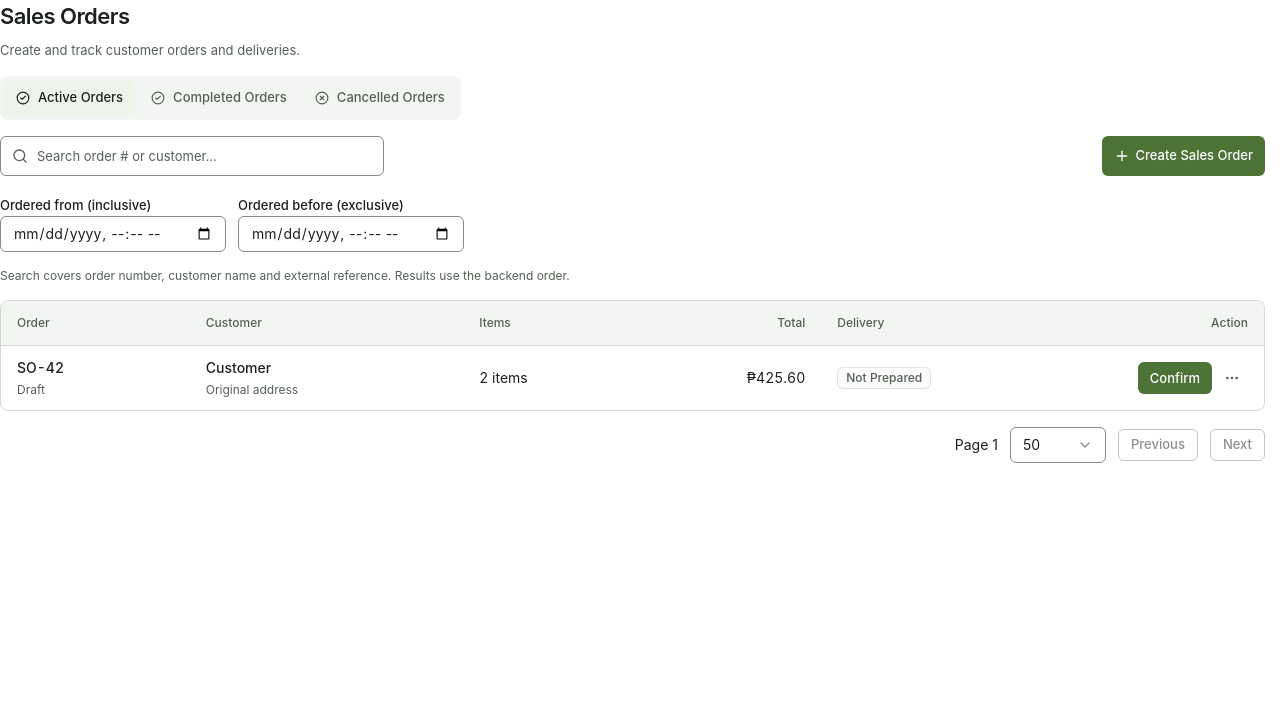
Test: sales draft integration › offers Edit Draft from a saved record and refreshes cached revision after saving
The image size is (1280, 720).
Click the button named "More actions for SO-42".
click(1232, 378)  # box [1216,362,1248,394]
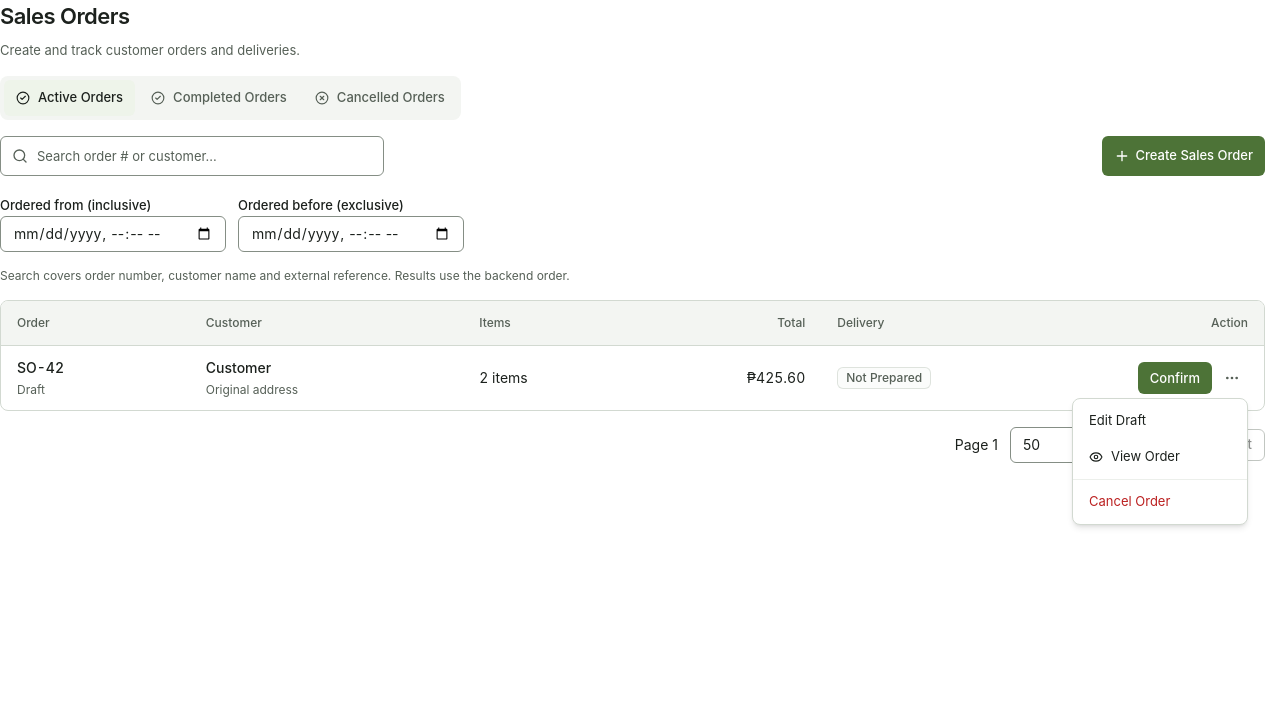
Click the menu item "Edit Draft".
click(1118, 420)  # box [1089,412,1146,428]
(page scrolled)
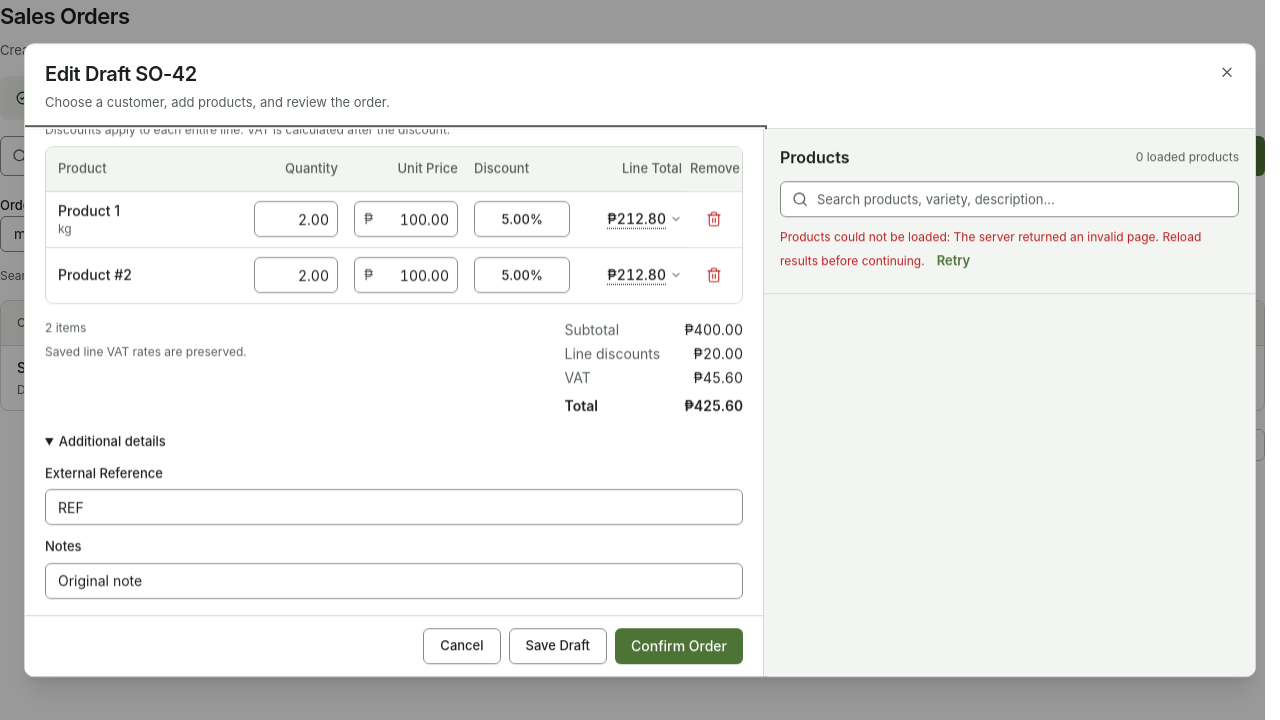
expect the field named "Quantity for Product 1" is shown: met, box [254,201,338,237]
Replace the text in the field labelled "Notes" with "Changed through UI" at x=394, y=581, box [45,563,743,599]
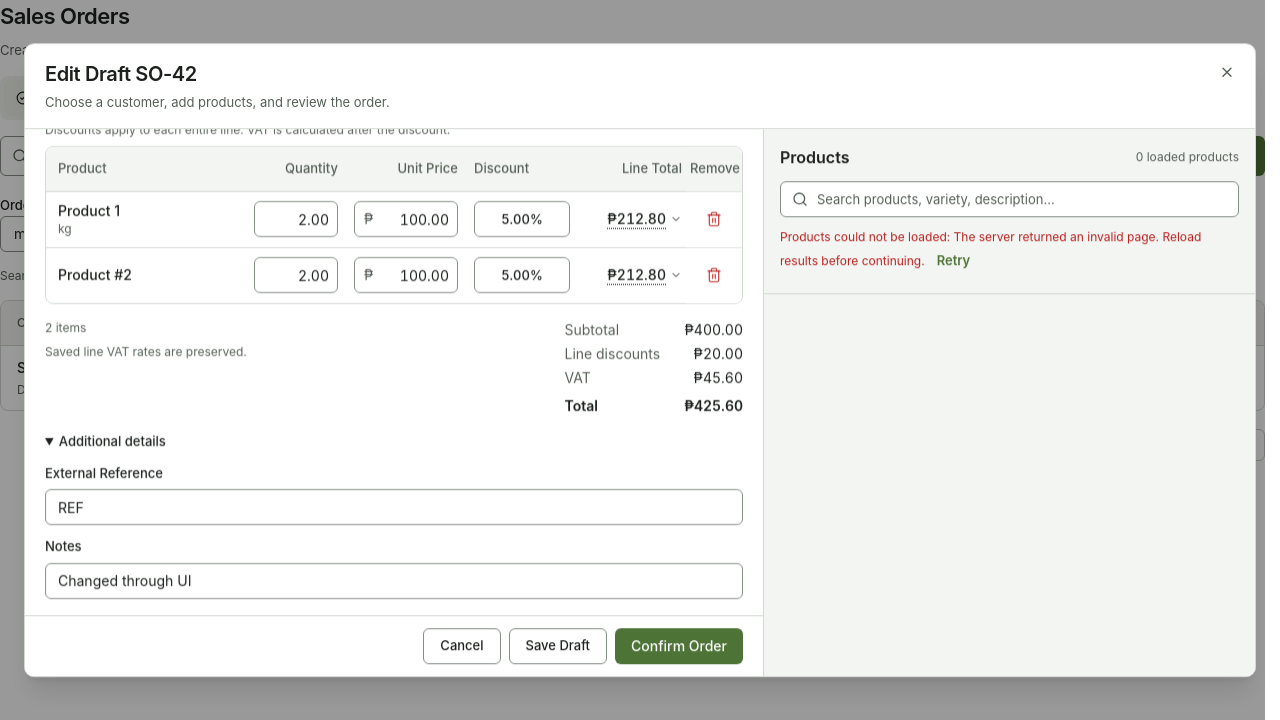
Click the button "Save Draft".
click(558, 646)  # box [508,628,607,664]
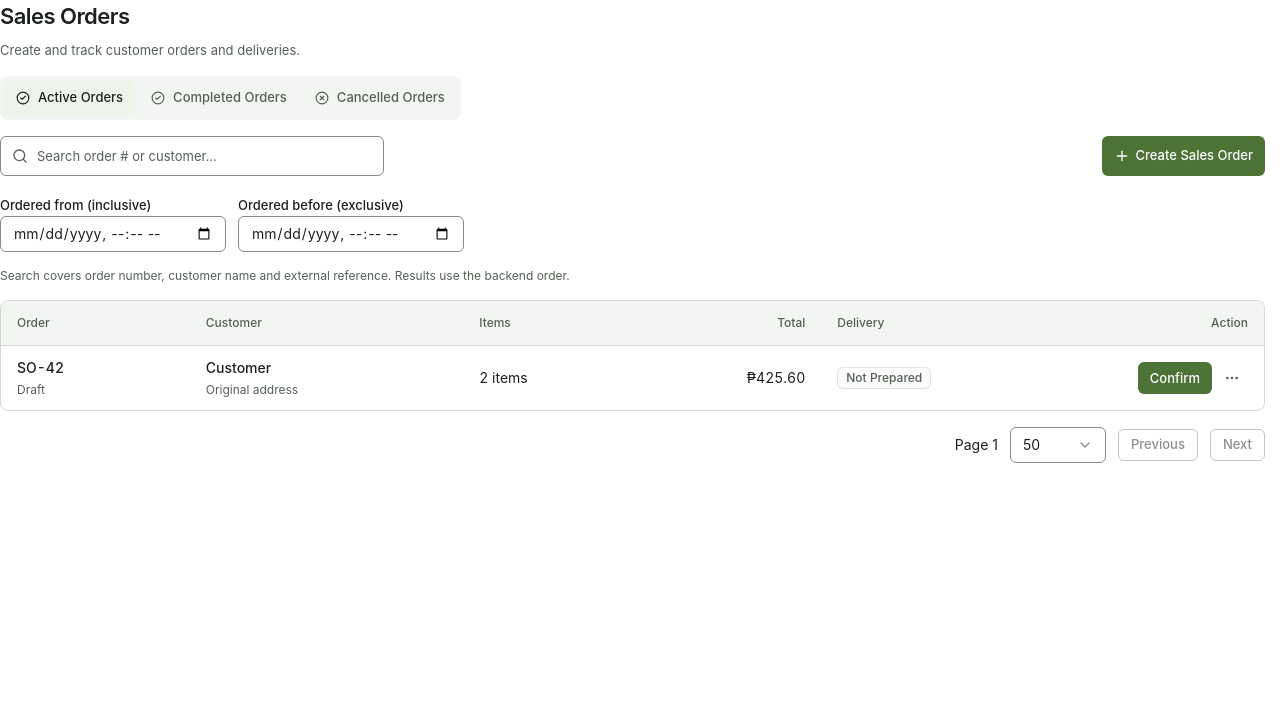
expect the heading "Edit Draft SO-42" is gone: met
